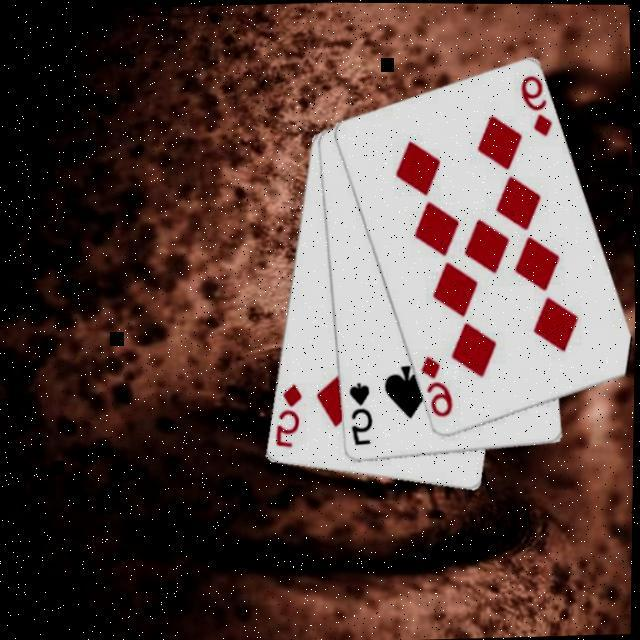5D: (269, 382, 306, 452)
5S: (344, 381, 376, 450)
9D: (416, 353, 457, 422), (514, 73, 555, 142)
